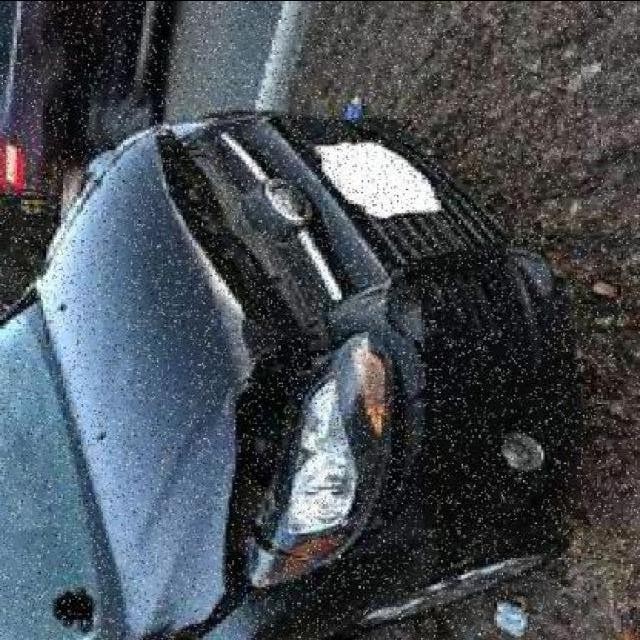bonnet-dent: (66, 119, 259, 640)
